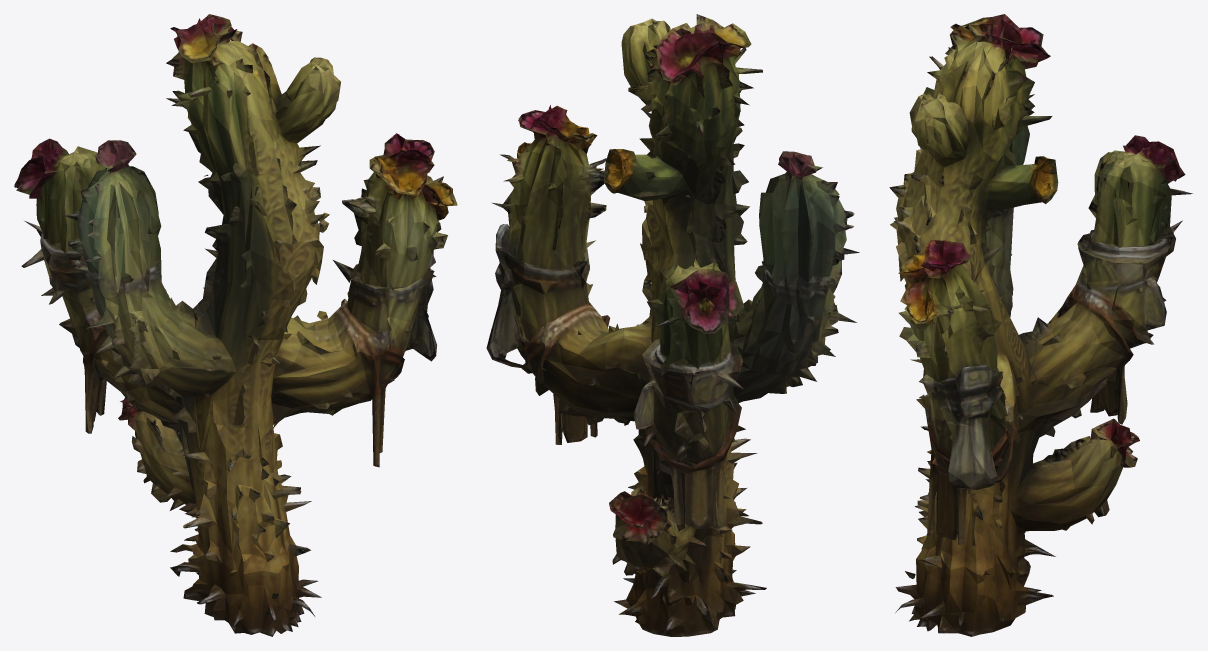
The model's file is cactus.glb.
3 views of the same model, side by side, from view 1: azimuth 30°, elevation 25°; view 2: azimuth 150°, elevation 25°; view 3: azimuth 270°, elevation 25° (orthographic). The views are drawn at different scales.
Visible parts, largest first — view 1: world; view 2: world; view 3: world.
Part boxes in pixels (box(x1,y1,x2,y2)): world: box(14, 14, 457, 636); world: box(486, 14, 859, 636); world: box(889, 14, 1192, 636).
Size of the model in its own units: 0.6318 by 0.9948 by 0.4713.
1 material, 1 textured.
